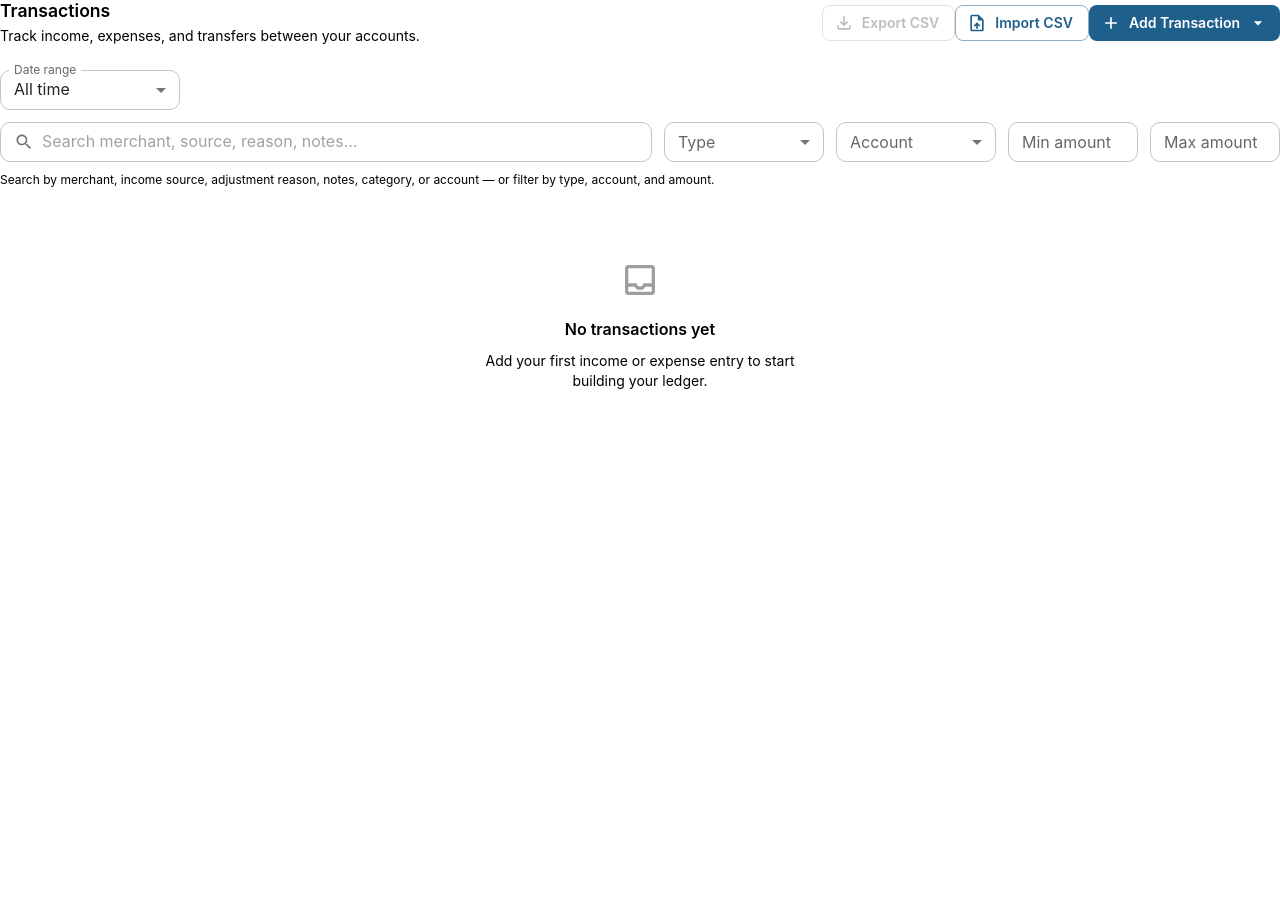
Test: TransactionsPage › does not pre-fill from a saved default account/category that has since been deleted
Click the button "Add Transaction": x=1184, y=23 [1089, 5, 1279, 41]
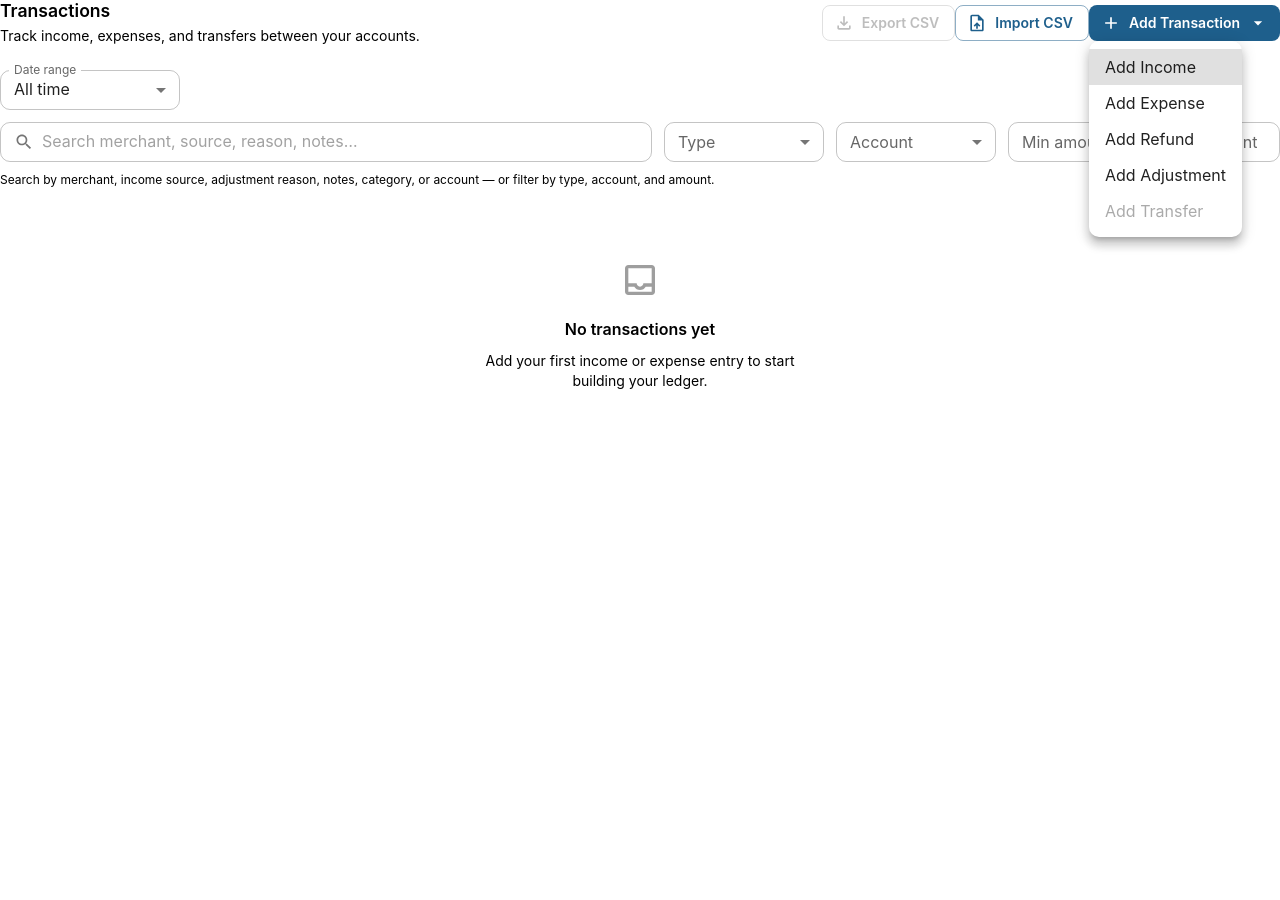
Click the menu item "Add Expense": x=1155, y=103 [1105, 93, 1205, 113]
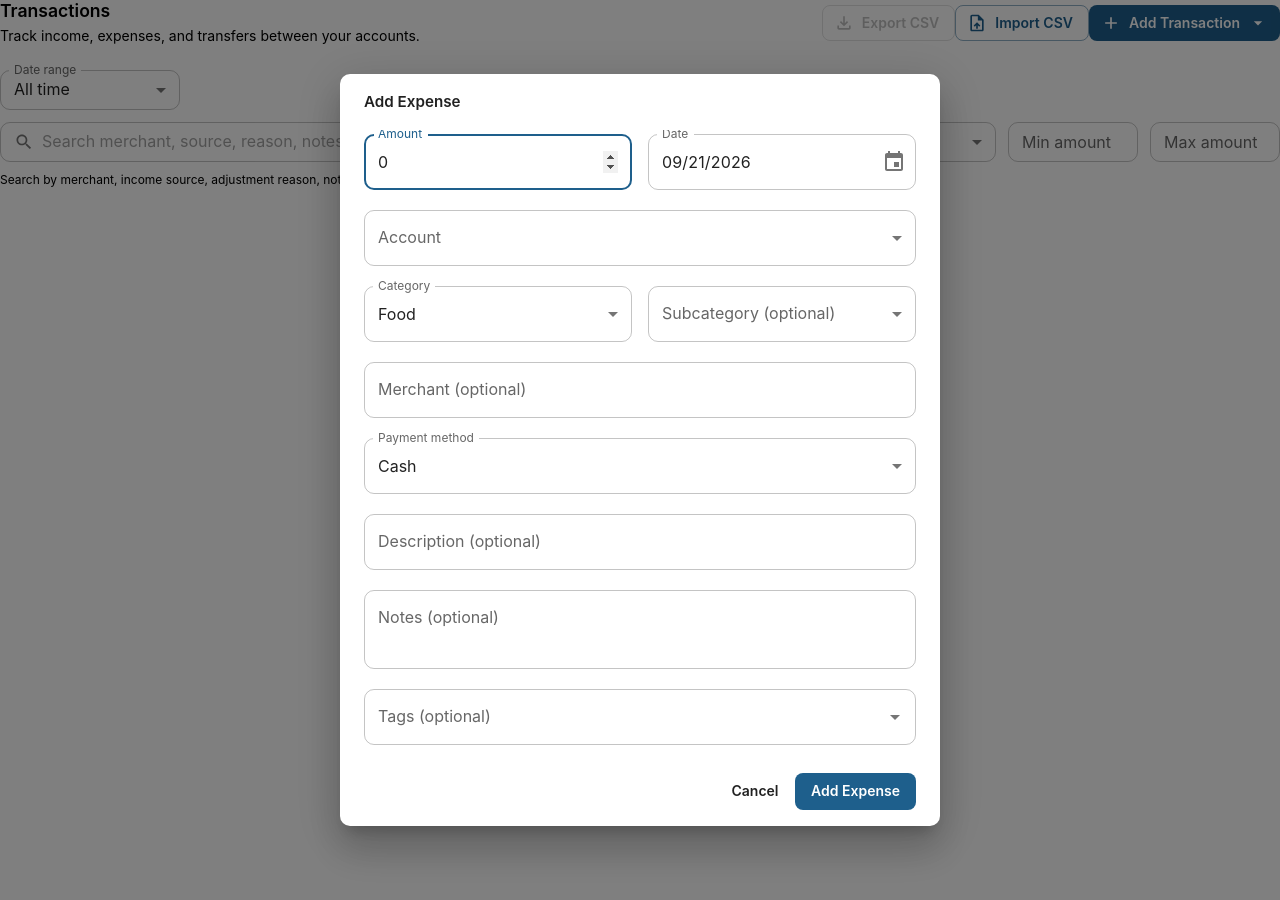
Replace the text in the number field labelled "Amount" with "99": x=498, y=162 [364, 134, 632, 190]
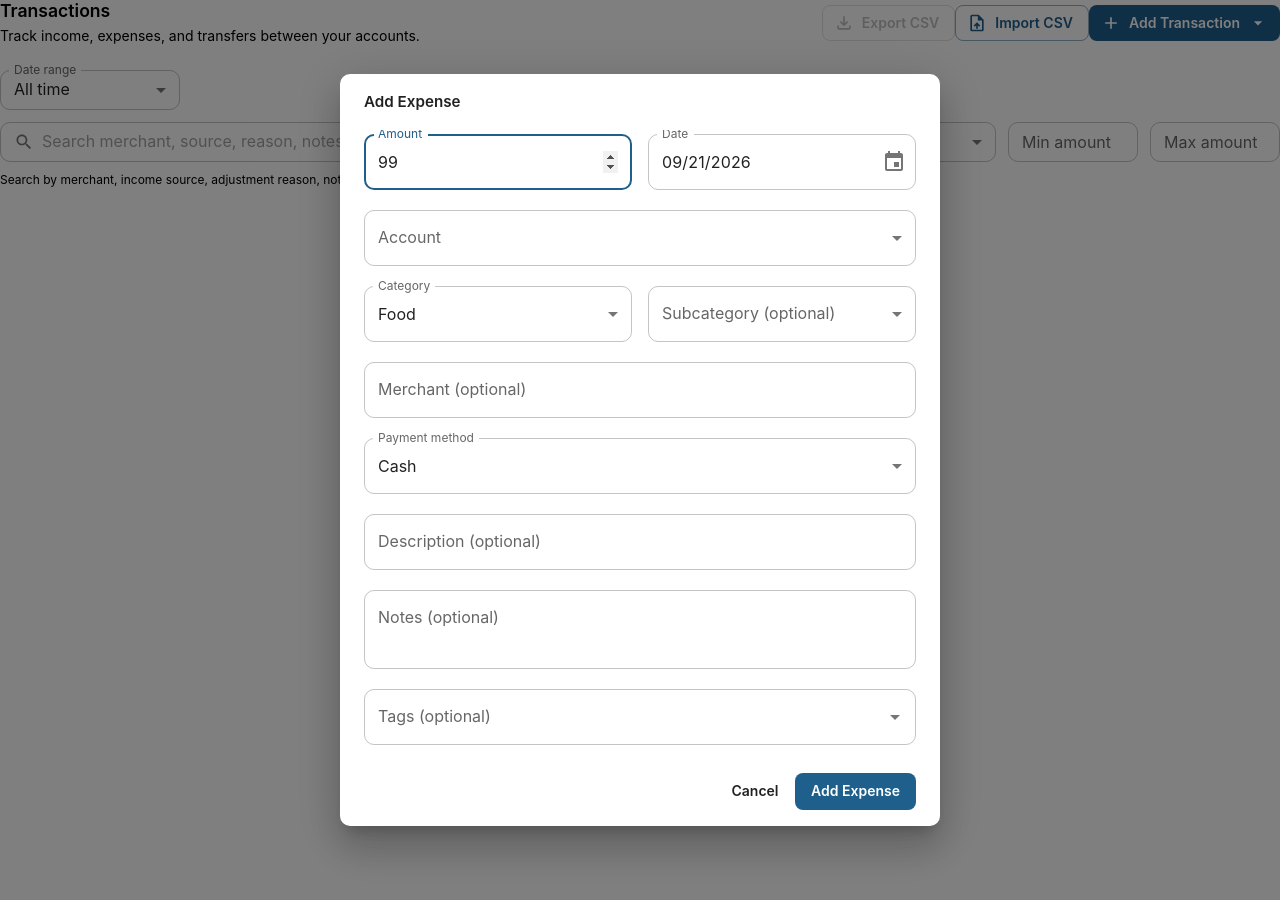
Click the button "Add Expense": x=856, y=792 [795, 773, 916, 810]
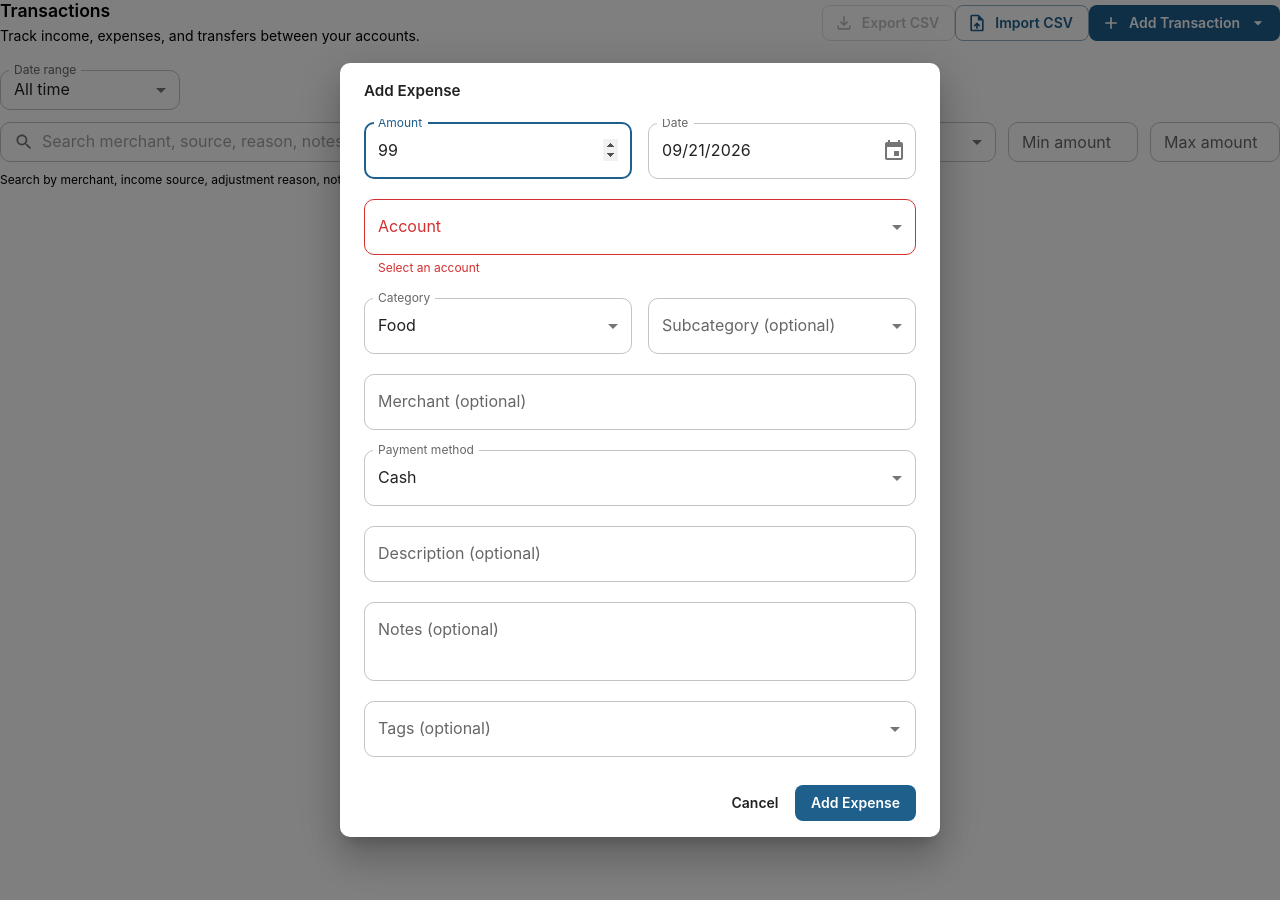
Expected: the text "Select an account" is shown, [378, 260, 480, 275]
